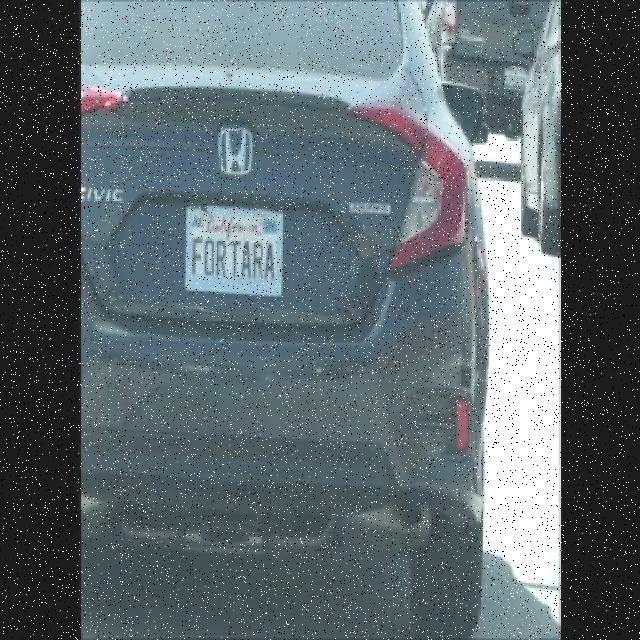licenseplate: (184, 202, 281, 298)
